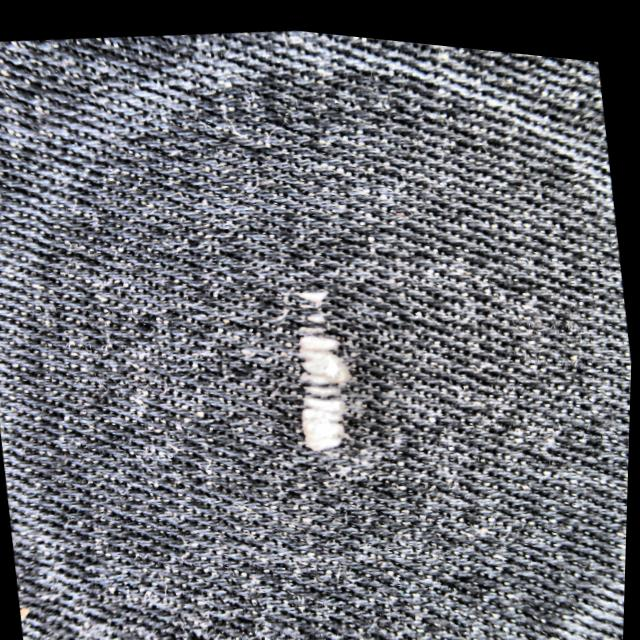Hole: (296, 281, 350, 442)
